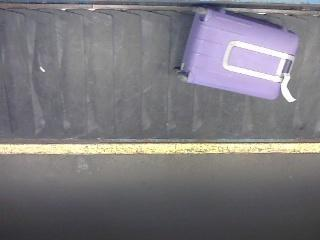Suitcase: (178, 2, 304, 119)
